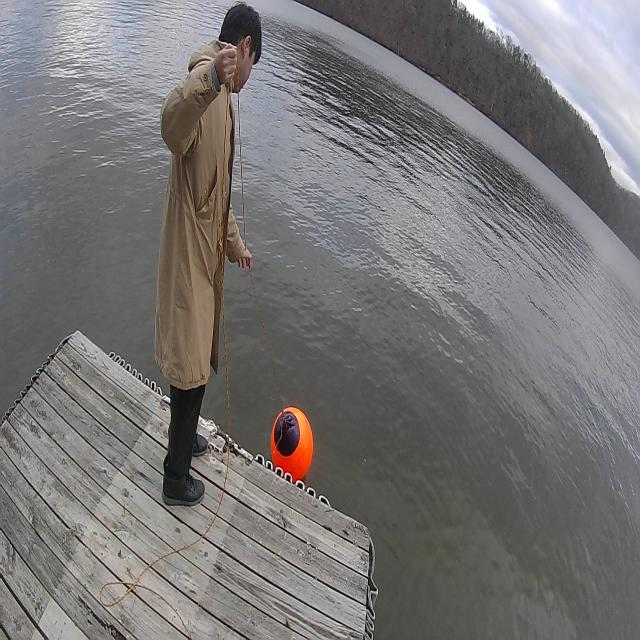Buoy: (261, 385, 326, 492)
